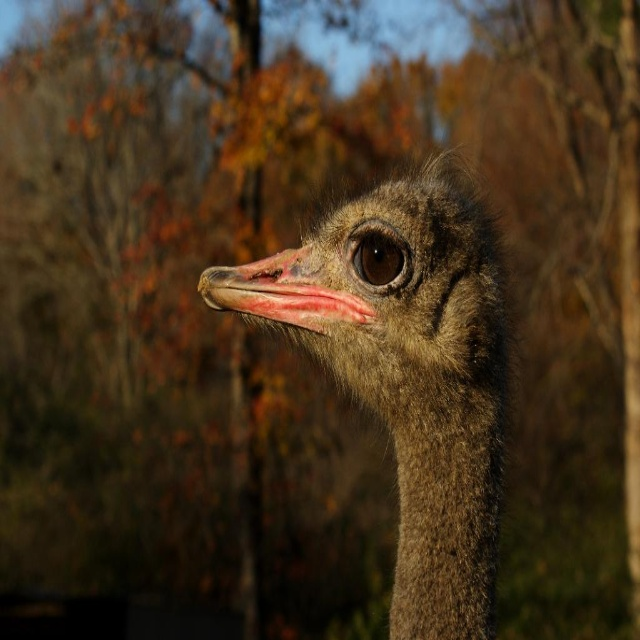Ostrich: (196, 163, 502, 639)
